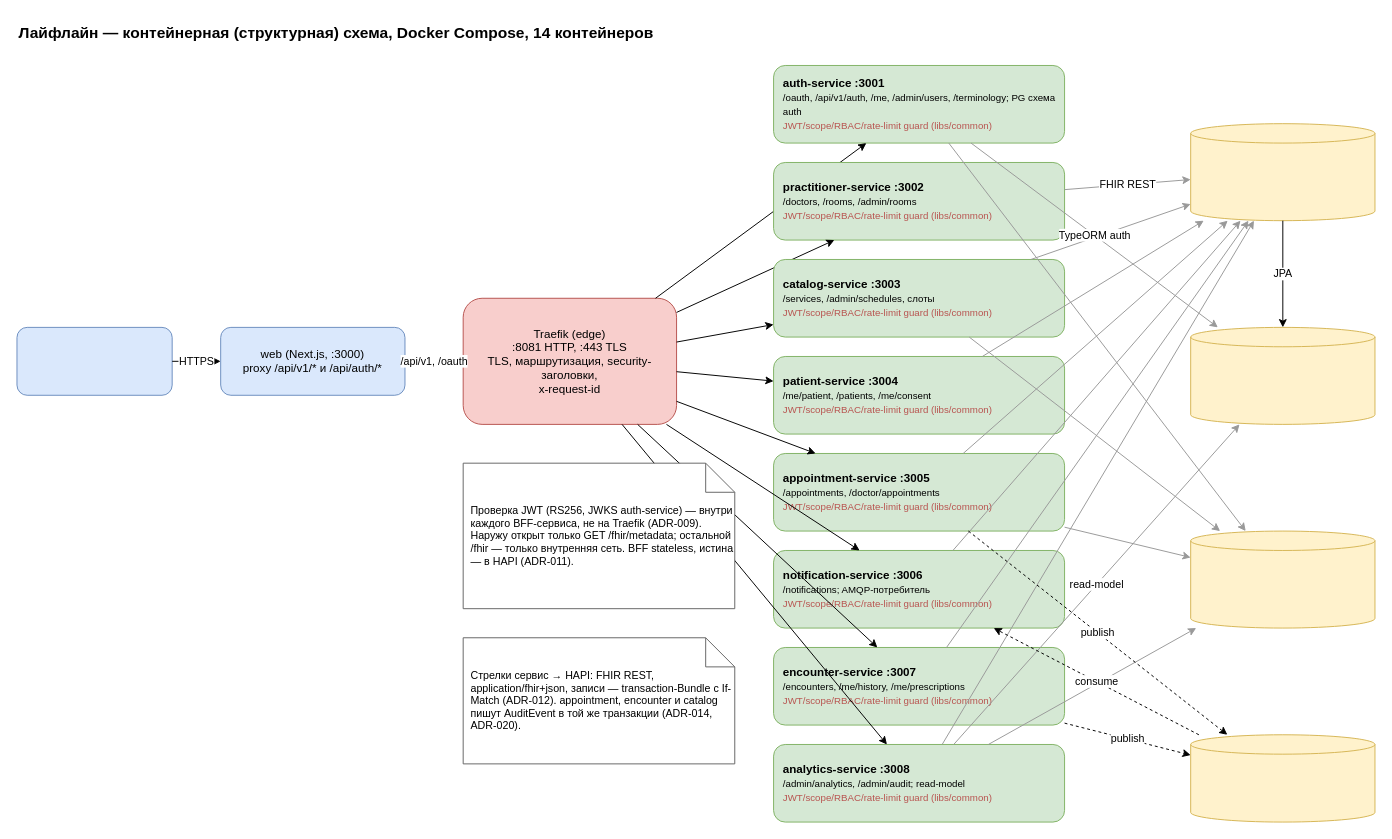
This 1392x839 diagram has some shape labels left out. The shapes that lost their labels are listed below. From the top down, each one's centre as x and y in pixels, then its label:
the point at 1282,172: HAPI FHIR JPA R4 :8080 /fhir (клинические ресурсы)
the point at 94,360: Браузер (SMART PKCE, Bearer in-memory, httpOnly mc_rt)
the point at 1282,375: PostgreSQL 16 HAPI JPA + схема auth + read-model аналитики
the point at 1282,579: Redis 7 кэш, rate-limit, denylist, Idempotency-Key
the point at 1282,778: RabbitMQ 3.13 события, DLQ
